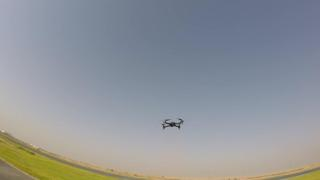UAV: (158, 118, 185, 130)
